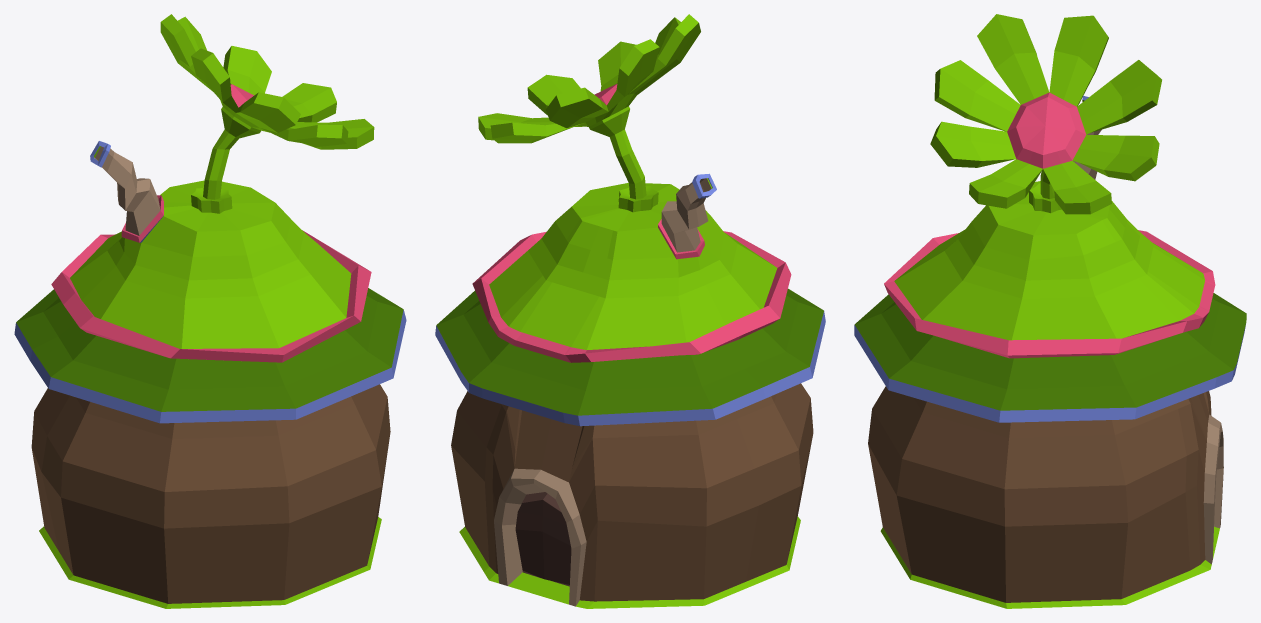
File: NPCHouse_02.fbx
3 views of the same model, side by side, from view 1: azimuth 30°, elevation 25°; view 2: azimuth 150°, elevation 25°; view 3: azimuth 270°, elevation 25° (orthographic).
Visible parts, largest first — view 1: NPCHouse1; view 2: NPCHouse1; view 3: NPCHouse1.
Boxes of the visible parts, bbox=[...] form: NPCHouse1: bbox=[14, 14, 406, 608]; NPCHouse1: bbox=[435, 14, 825, 608]; NPCHouse1: bbox=[854, 14, 1246, 608].
Size of the model in its own units: 17.02 by 24.69 by 17.14.
